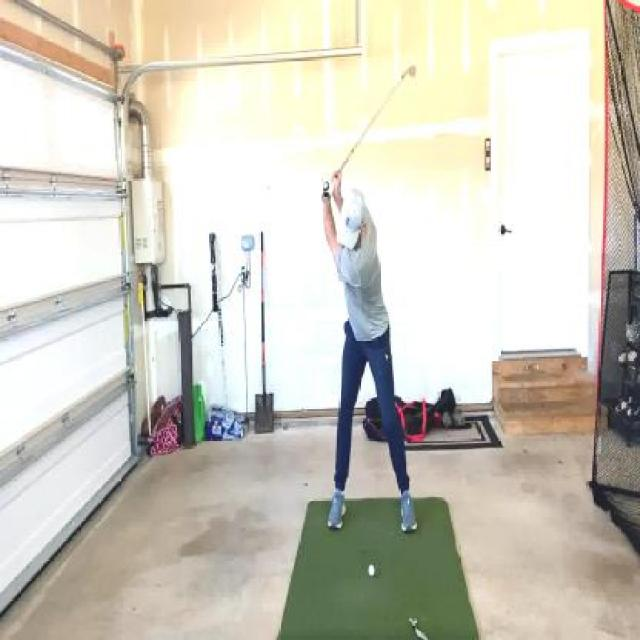club head: (401, 63, 417, 79)
